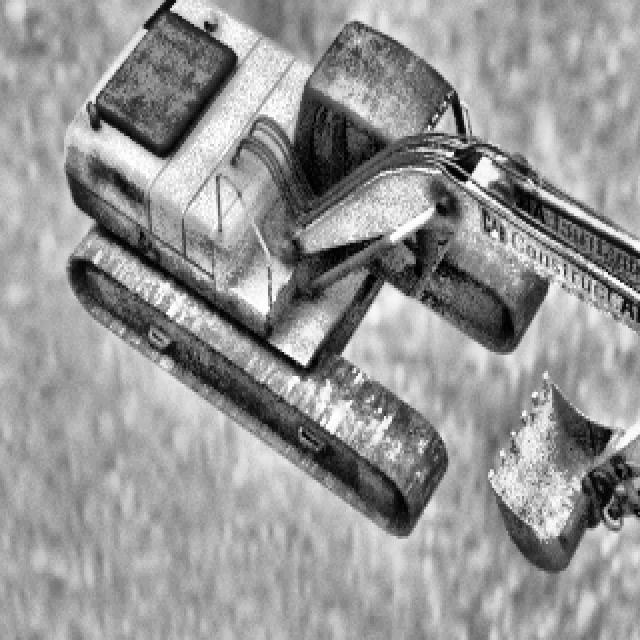excavator: (64, 0, 640, 571)
